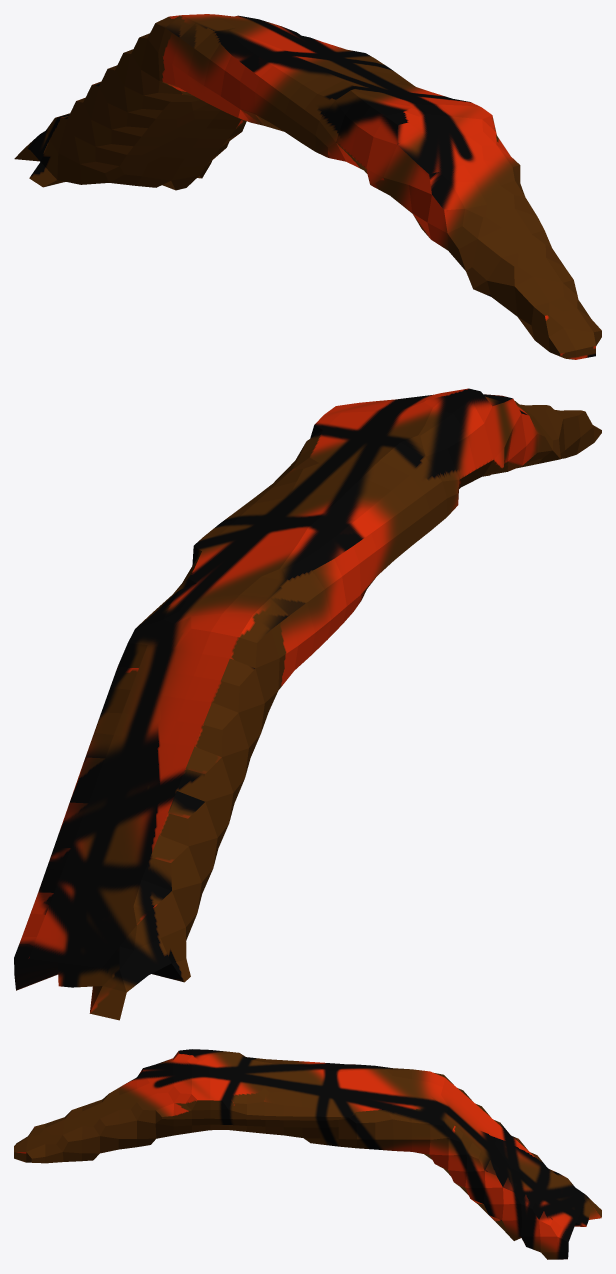
File: DemonArm.fbx
3 views of the same model, one above another, from view 1: azimuth 30°, elevation 25°; view 2: azimuth 150°, elevation 25°; view 3: azimuth 270°, elevation 25° (orthographic). The views are drawn at different scales.
Parts seen in each view (by area): view 1: Arm; view 2: Arm; view 3: Arm.
Part boxes in pixels (left/top/right/bottom): Arm: left=14, top=14, right=601, bottom=359; Arm: left=14, top=388, right=601, bottom=1020; Arm: left=14, top=1049, right=601, bottom=1259.
Bounding box in the file's own units: 25.19 × 44.03 × 126.
1 material, 1 textured.
